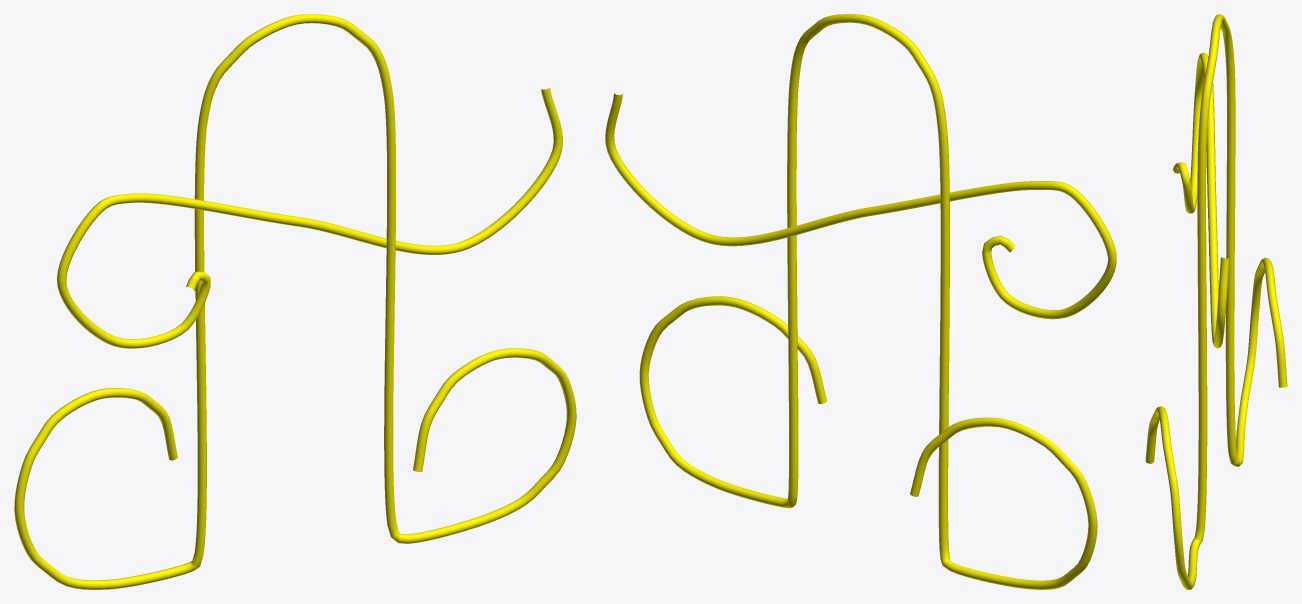
3 renders of one model, left to right at view 1: azimuth 30°, elevation 25°; view 2: azimuth 150°, elevation 25°; view 3: azimuth 270°, elevation 25°, orthographic. The views are drawn at different scales.
Parts seen in each view (by area): view 1: Tube (×2); view 2: Tube (×2); view 3: Tube (×2).
Boxes of the visible parts, x1,y1,x2,y2 form: Tube (×2): (14, 14, 576, 589); Tube (×2): (605, 14, 1116, 589); Tube (×2): (1145, 14, 1287, 589).
Bounding box in the file's own units: 6.23 × 6.13 × 1.62.
